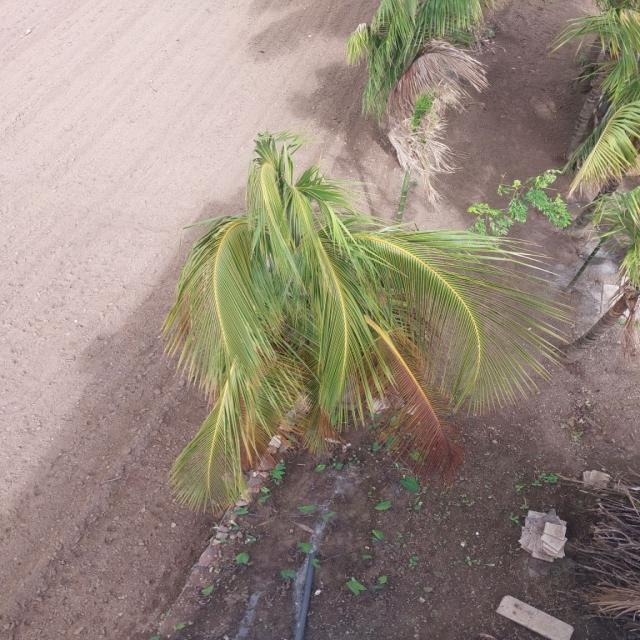bud root dropping: (165, 134, 565, 508)
